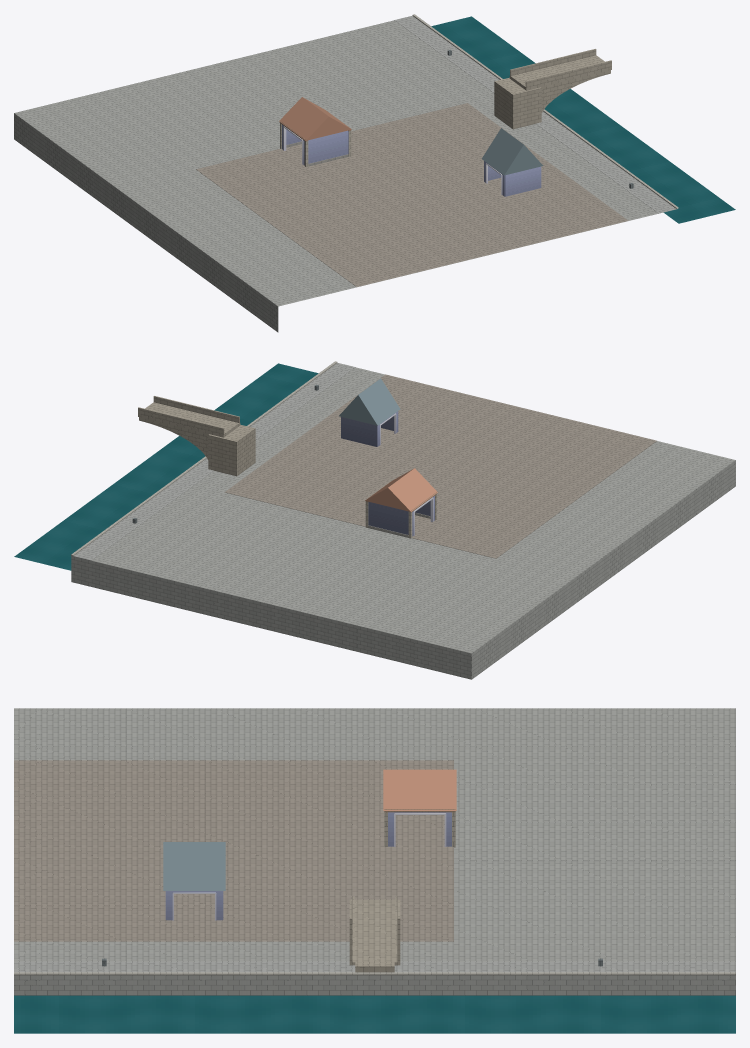
Rendered from canal-0-0.glb.
3 renders of one model, top to bottom at view 1: azimuth 30°, elevation 25°; view 2: azimuth 150°, elevation 25°; view 3: azimuth 270°, elevation 25°, orthographic. The views are drawn at different scales.
Visible parts, largest first — view 1: canal-0-0; view 2: canal-0-0; view 3: canal-0-0.
Boxes of the visible parts, x1,y1,x2,y2 form: canal-0-0: (14,14,735,332); canal-0-0: (14,361,735,679); canal-0-0: (14,708,735,1033).
Bounding box in the file's own units: 128 × 20 × 128.
24 materials, 24 textured.
